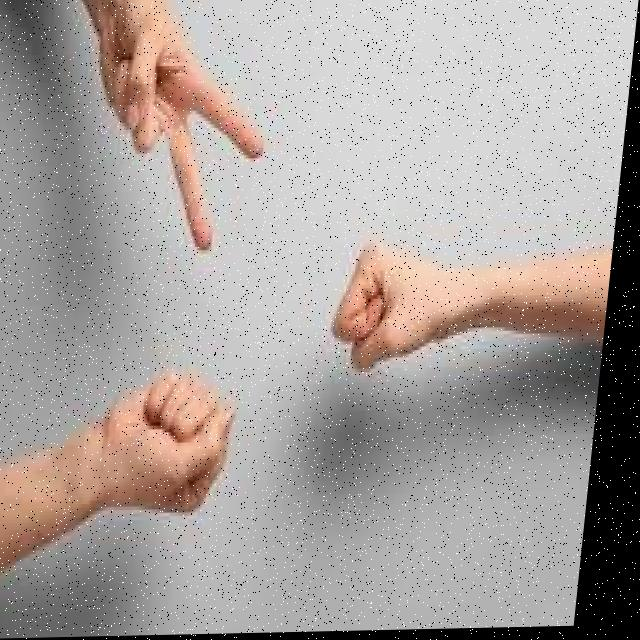rock: (57, 332, 297, 561), (318, 212, 498, 414)
scirssors: (57, 0, 318, 292)
